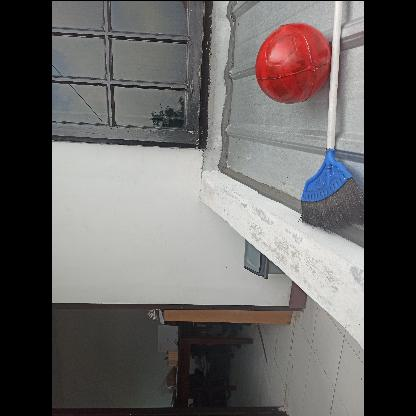red_ball: (250, 21, 332, 102)
